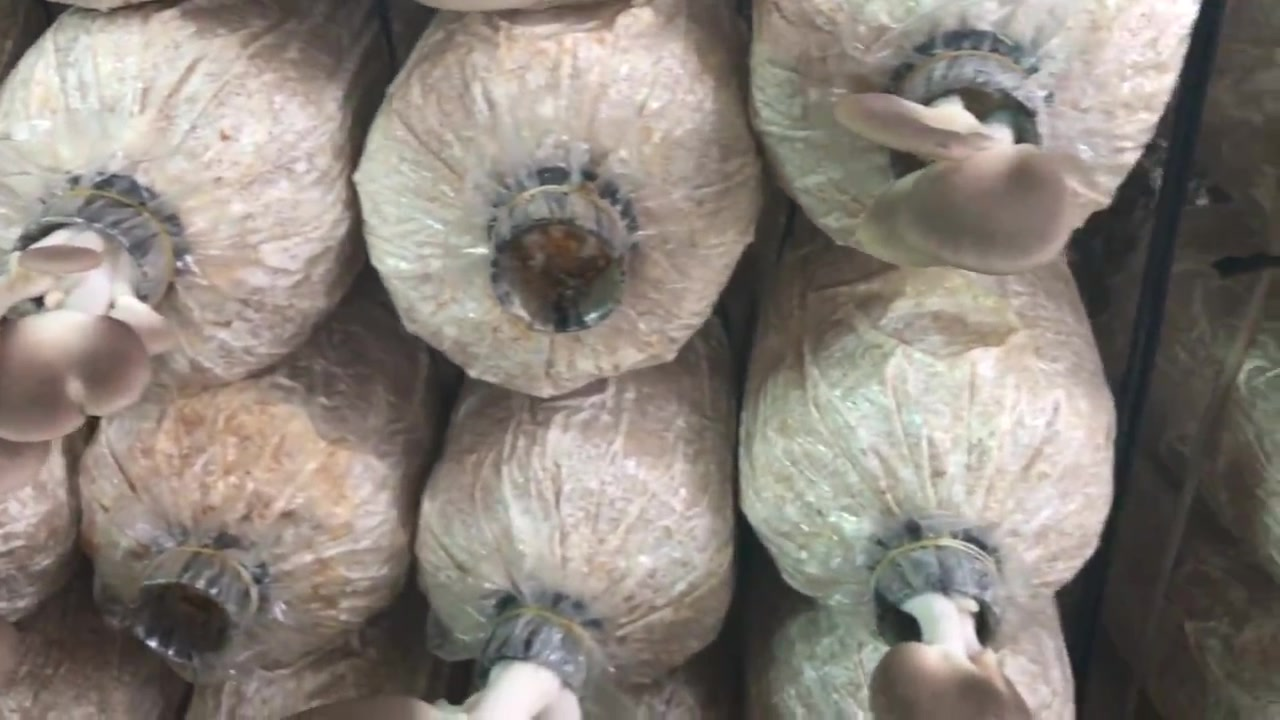nam: (832, 59, 1078, 273), (1, 192, 163, 447), (870, 531, 1030, 720)
